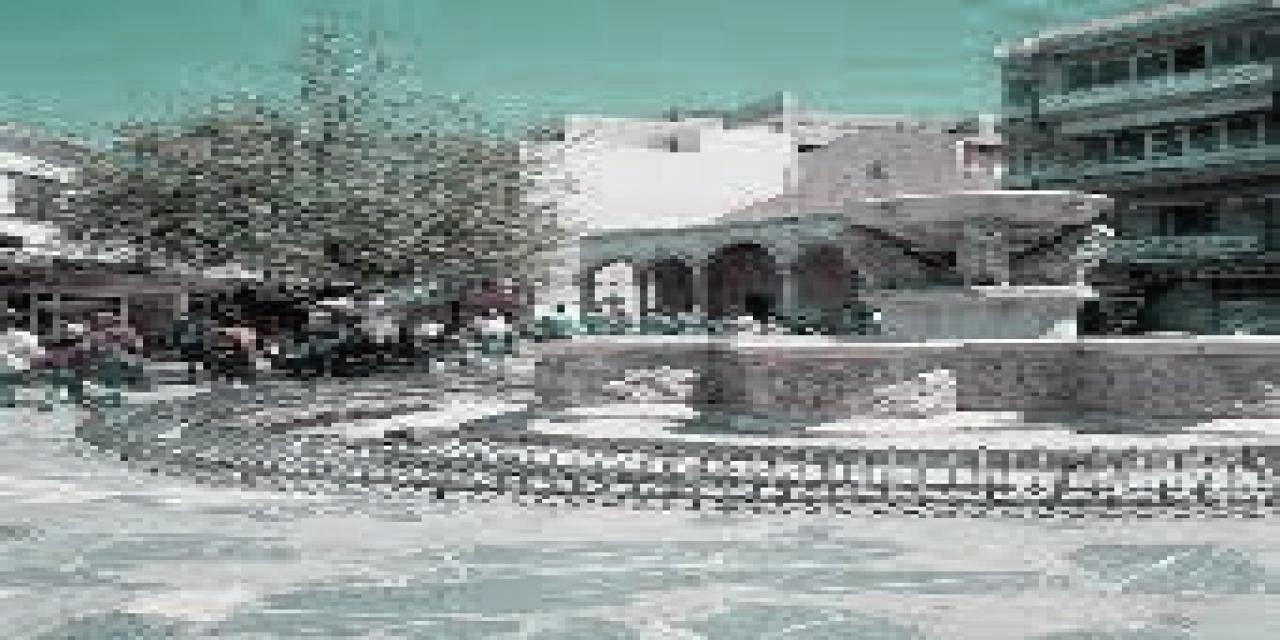Liontaria: (554, 173, 1280, 429)
